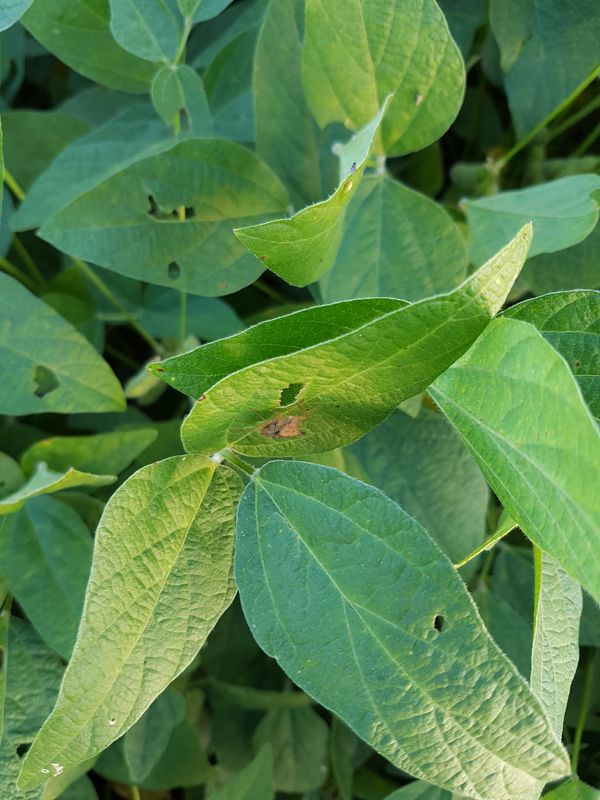Euschistus_heros_adulto: (227, 392, 314, 462)
